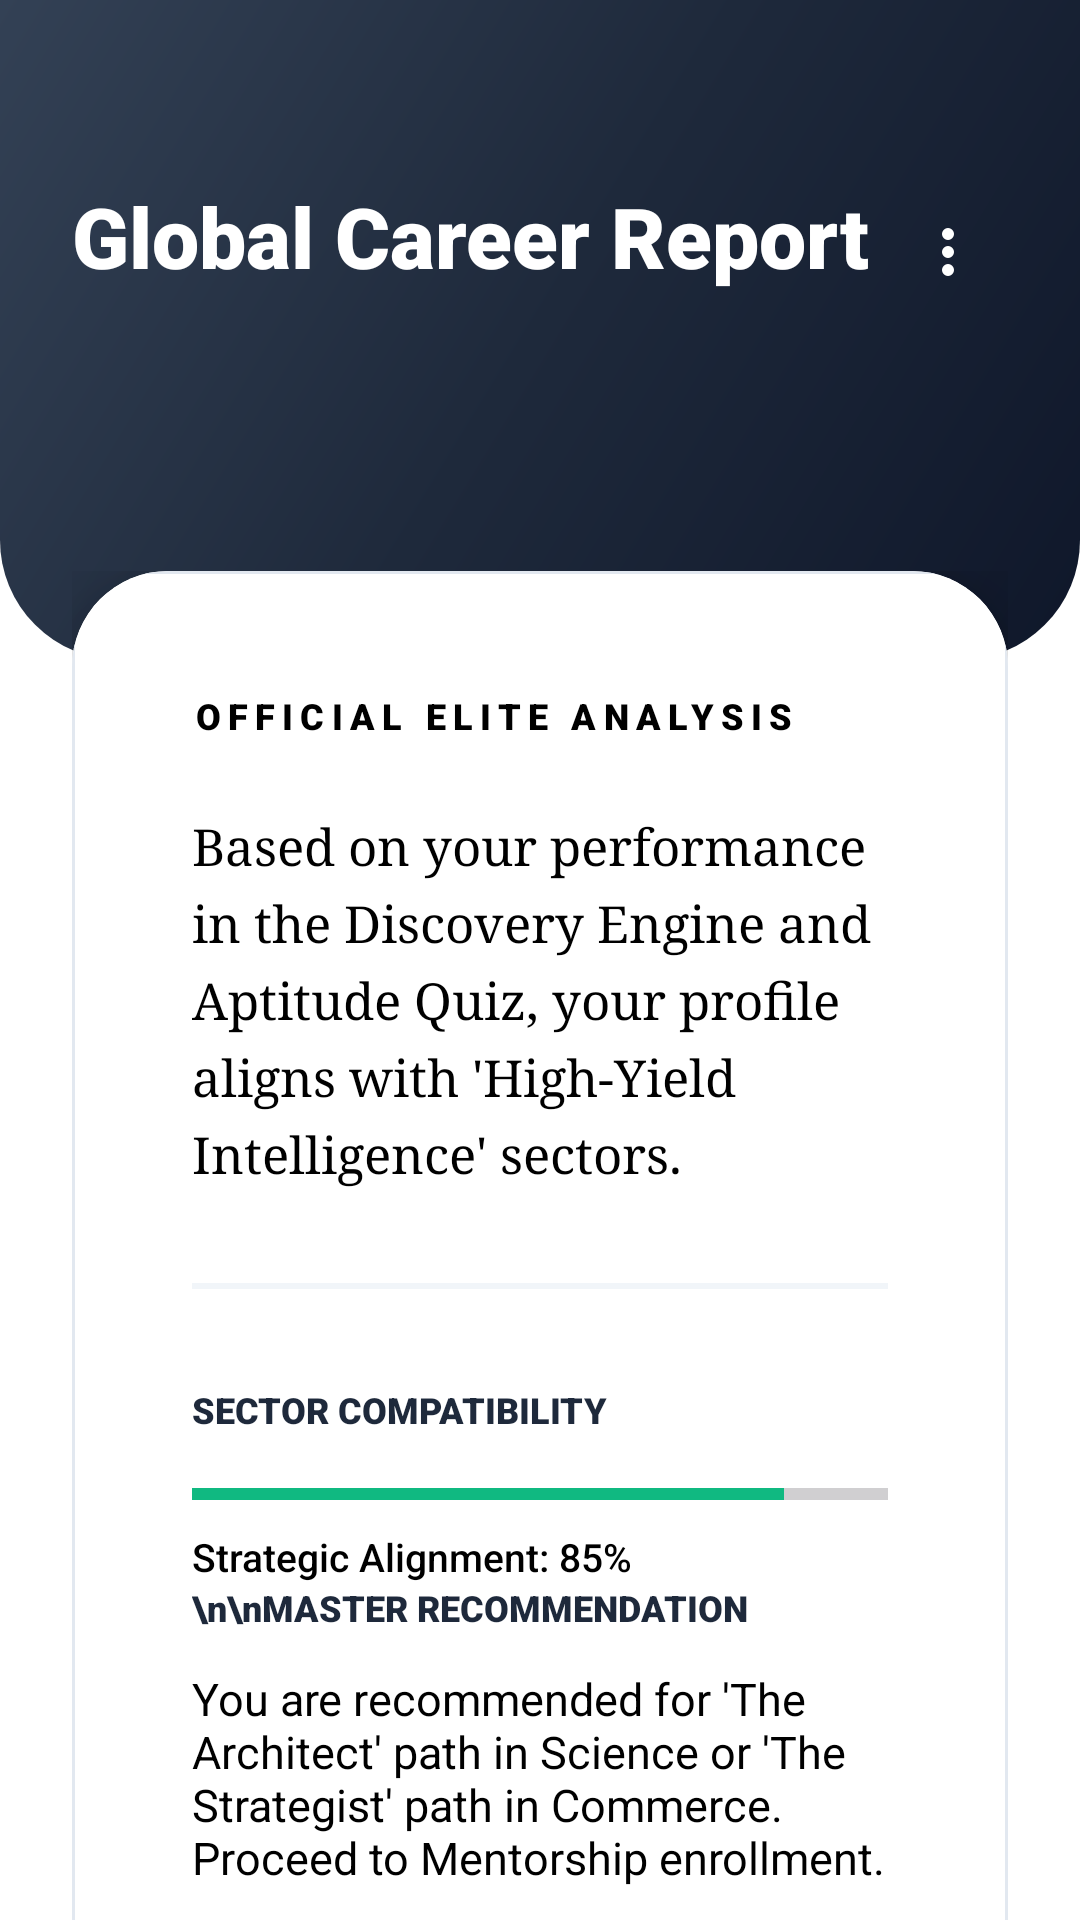

Icons on this 1080w x 1920h Android screen, each with the point to tap as (x=x, y=y):
Menu: (x=948, y=252)
